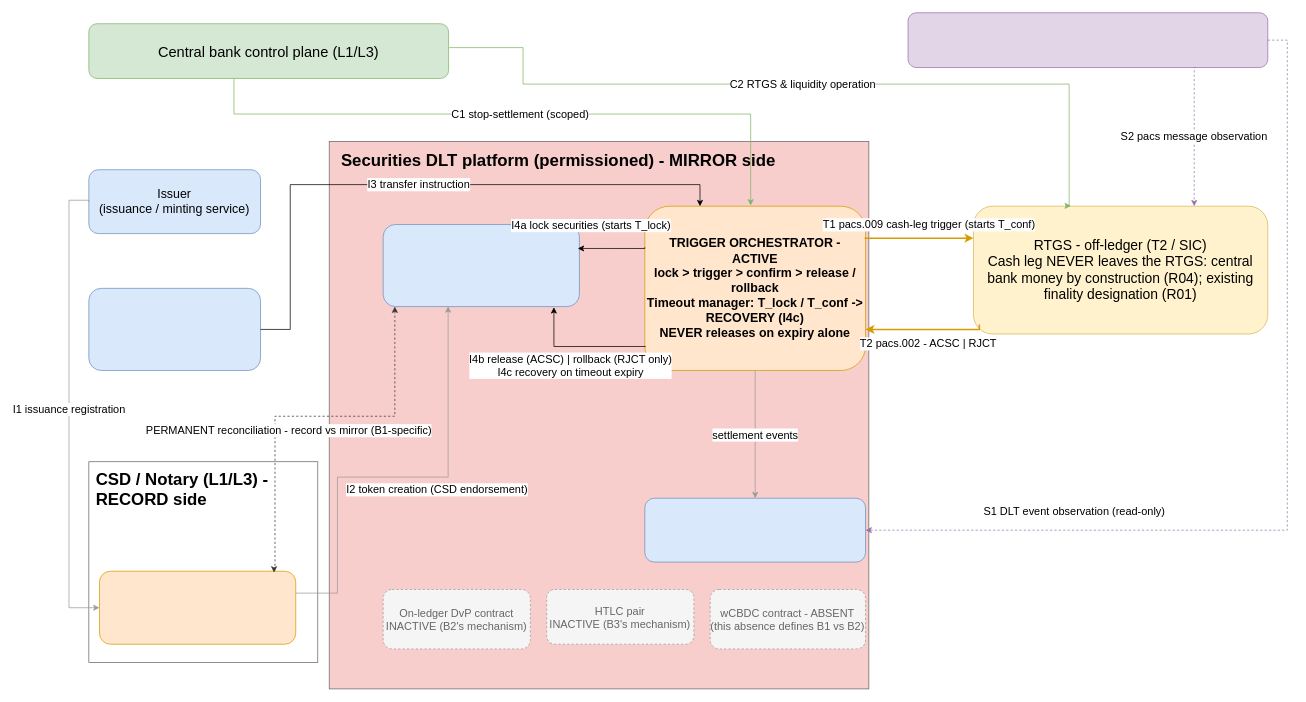
Some shapes in this 1306 by 702 pixel diagram are drawn without their labels. The shapes that lost their labels are listed below. From the top down, each one's centre as x and y in pixels, then its label:
At [1087,40]: "Regulatory & supervisory plane (L5) - read-only".
At [480,265]: "Security token contract MIRROR of the CSD record".
At [174,329]: "Participants (OMS) cosigned settlement instructions".
At [755,529]: "DLT event bus TokensLocked / Released / Transferred".
At [197,607]: "AUTHORITATIVE REGISTER GOLDEN RECORD (off-ledger; D2: CSD primary)".
